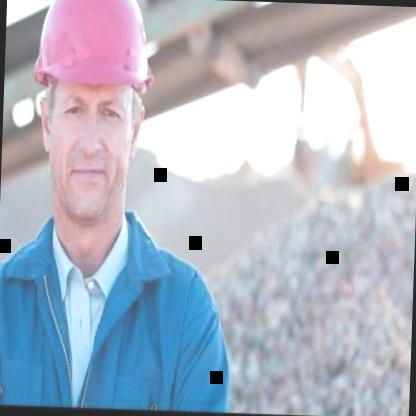helmet: (17, 0, 165, 254)
